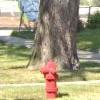a fire hydrant: (40, 59, 61, 94)
